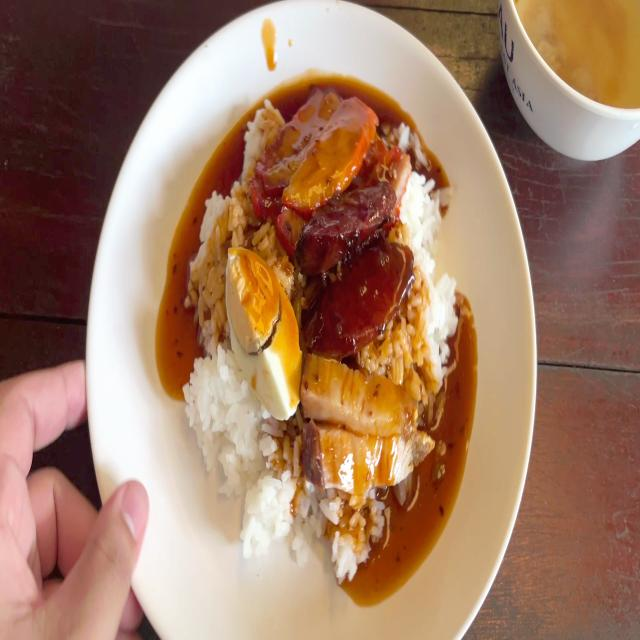boiled_egg: (228, 244, 298, 420)
chainese_sausage: (302, 238, 411, 360), (307, 198, 393, 267)
crispy_pork: (301, 354, 417, 434), (312, 427, 431, 486)
red_pork: (255, 89, 377, 222)
red_pork_and_crispy_pork: (183, 100, 460, 588)
rice: (187, 344, 253, 487), (239, 450, 304, 556), (393, 278, 459, 372), (189, 184, 225, 330), (314, 502, 374, 572), (404, 182, 440, 270), (247, 95, 276, 151)
